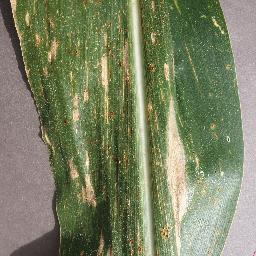Gray_Leaf_Spot: (7, 0, 168, 255), (169, 133, 190, 256), (168, 60, 183, 135), (190, 180, 228, 203), (211, 11, 234, 35), (209, 121, 231, 145), (191, 158, 206, 180), (169, 0, 184, 16), (225, 61, 236, 75)
